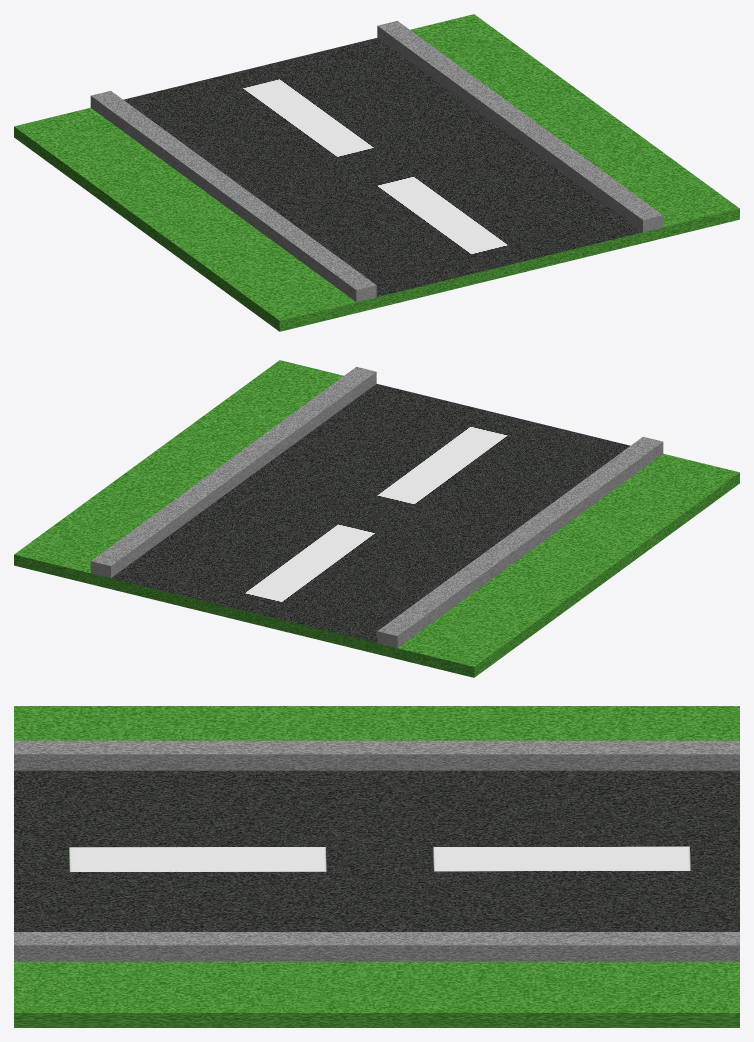
File: CityRoad_Straight_Asset.fbx
The picture shows the model from 3 angles, top to bottom: view 1: azimuth 30°, elevation 25°; view 2: azimuth 150°, elevation 25°; view 3: azimuth 270°, elevation 25°; orthographic projection. The views are drawn at different scales.
Visible parts, largest first — view 1: CityRoad_Straight; view 2: CityRoad_Straight; view 3: CityRoad_Straight.
Part boxes in pixels (x1,y1,x2,y2): CityRoad_Straight: (14, 14, 739, 331); CityRoad_Straight: (14, 360, 739, 677); CityRoad_Straight: (14, 706, 739, 1027).
Size of the model in its own units: 3.15 by 0.1506 by 3.15.
